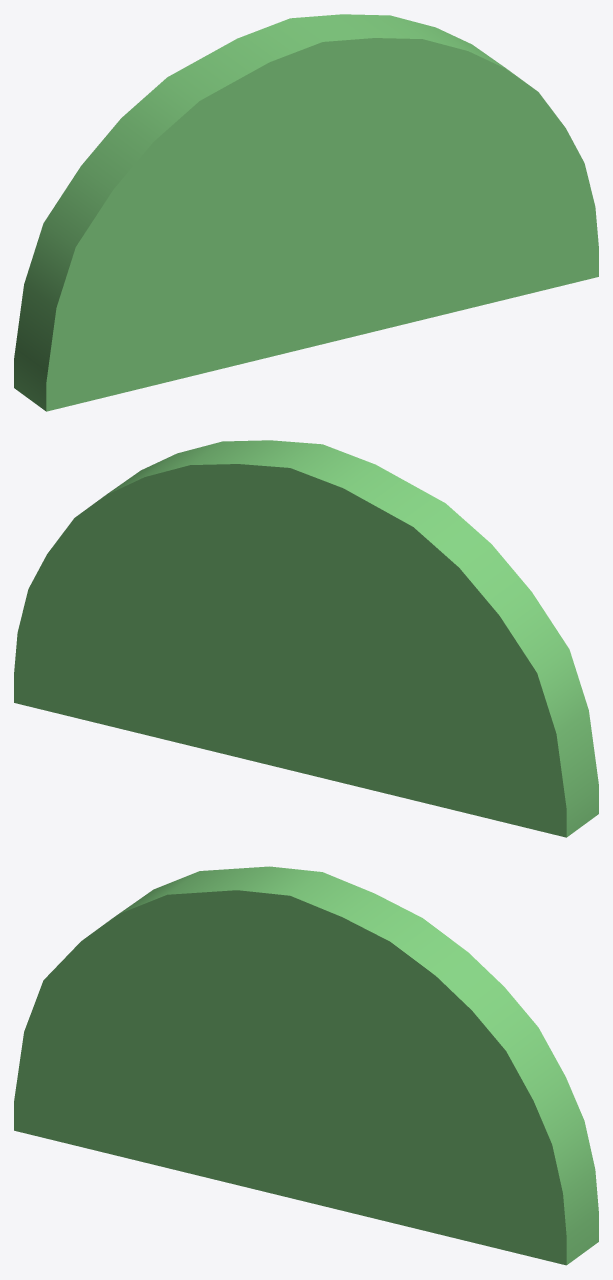
Rendered from Bld3_Deco_Arc.fbx.
3 views of the same model, one above another, from view 1: azimuth 30°, elevation 25°; view 2: azimuth 150°, elevation 25°; view 3: azimuth 330°, elevation 25° (orthographic).
Parts seen in each view (by area): view 1: Bld3_Deco_Arc; view 2: Bld3_Deco_Arc; view 3: Bld3_Deco_Arc.
Boxes of the visible parts, x1=… form: Bld3_Deco_Arc: x1=14, y1=14, x2=598, y2=411; Bld3_Deco_Arc: x1=14, y1=440, x2=598, y2=837; Bld3_Deco_Arc: x1=14, y1=866, x2=598, y2=1265.
Size of the model in its own units: 330 by 173 by 33.48.
